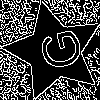G: (29, 26, 85, 75)
